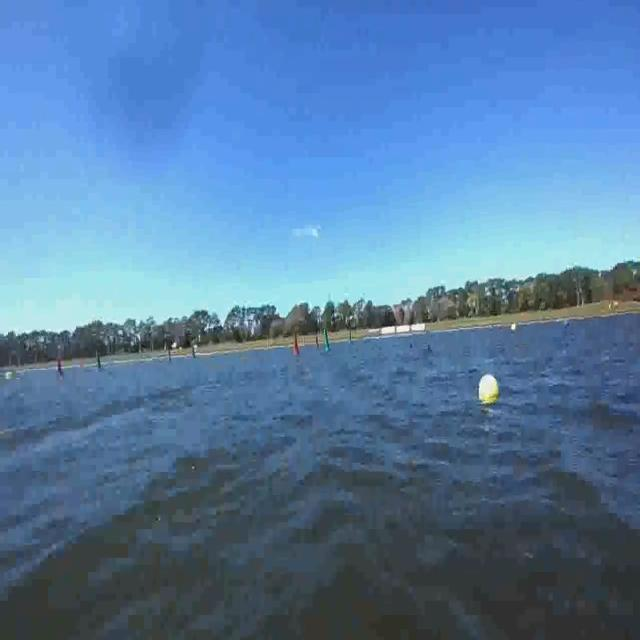green-column-buoy: (326, 328, 334, 354), (96, 346, 104, 370), (348, 328, 353, 344)
red-column-buoy: (292, 332, 300, 356), (58, 354, 66, 375), (315, 336, 320, 350)
yellow-buoy: (480, 373, 500, 405)
